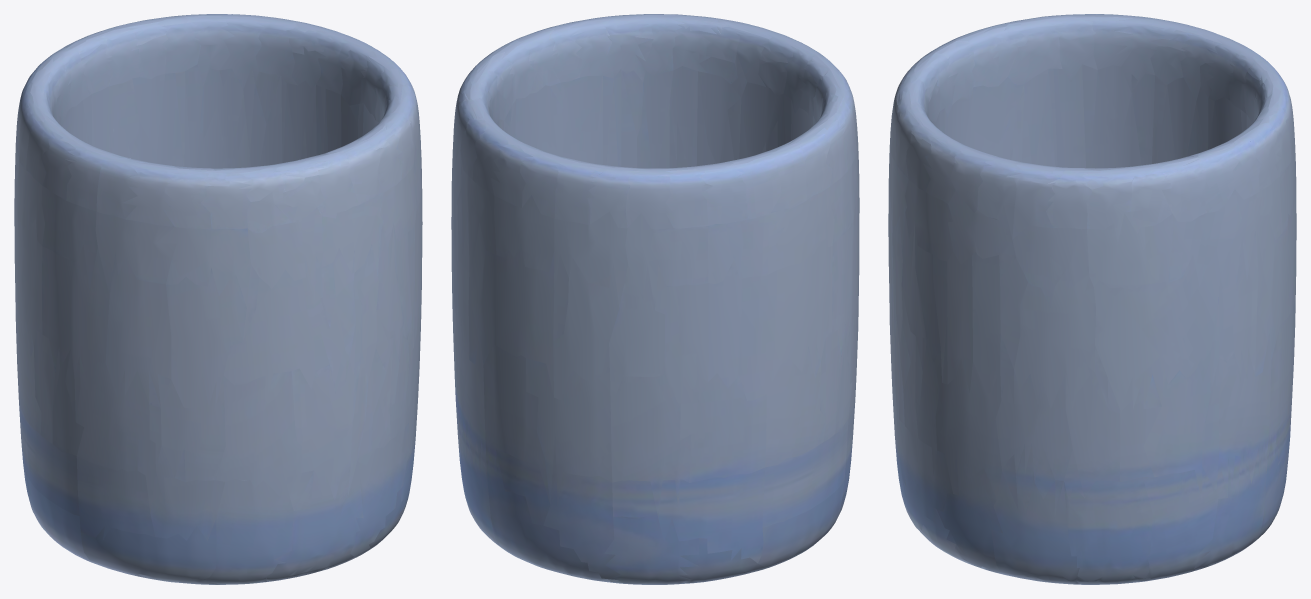
The model's file is glas.glb.
3 renders of one model, left to right at view 1: azimuth 30°, elevation 25°; view 2: azimuth 150°, elevation 25°; view 3: azimuth 270°, elevation 25°, orthographic.
Visible parts, largest first — view 1: Mesh_0; view 2: Mesh_0; view 3: Mesh_0.
Boxes of the visible parts, x1,y1,x2,y2 form: Mesh_0: (14,14,422,584); Mesh_0: (451,14,859,584); Mesh_0: (888,14,1296,584).
Size of the model in its own units: 1.67 by 1.9 by 1.67.
1 material, 1 textured.
